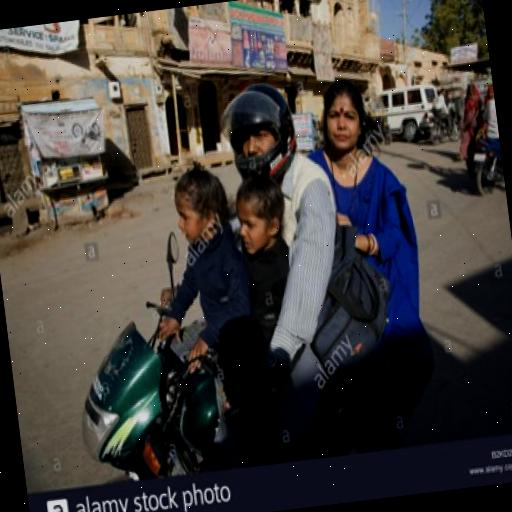helmet: (202, 72, 314, 206)
triple riding: (116, 36, 434, 462)
